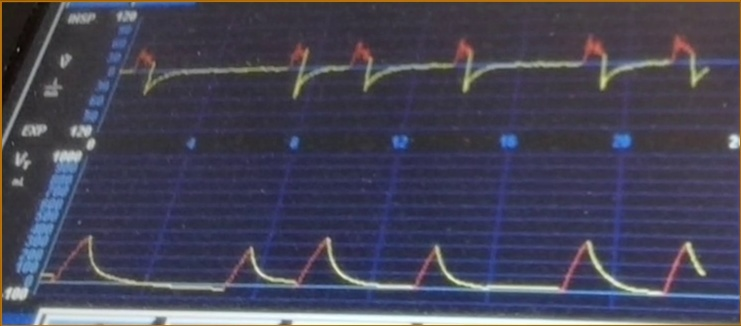Accumulation Flow: (134, 27, 708, 122)
Volume: (60, 228, 705, 309)
